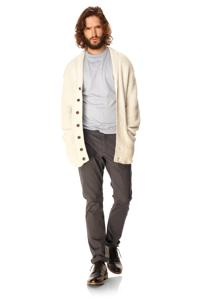S_cardigan sweater: (52, 47, 149, 169)
